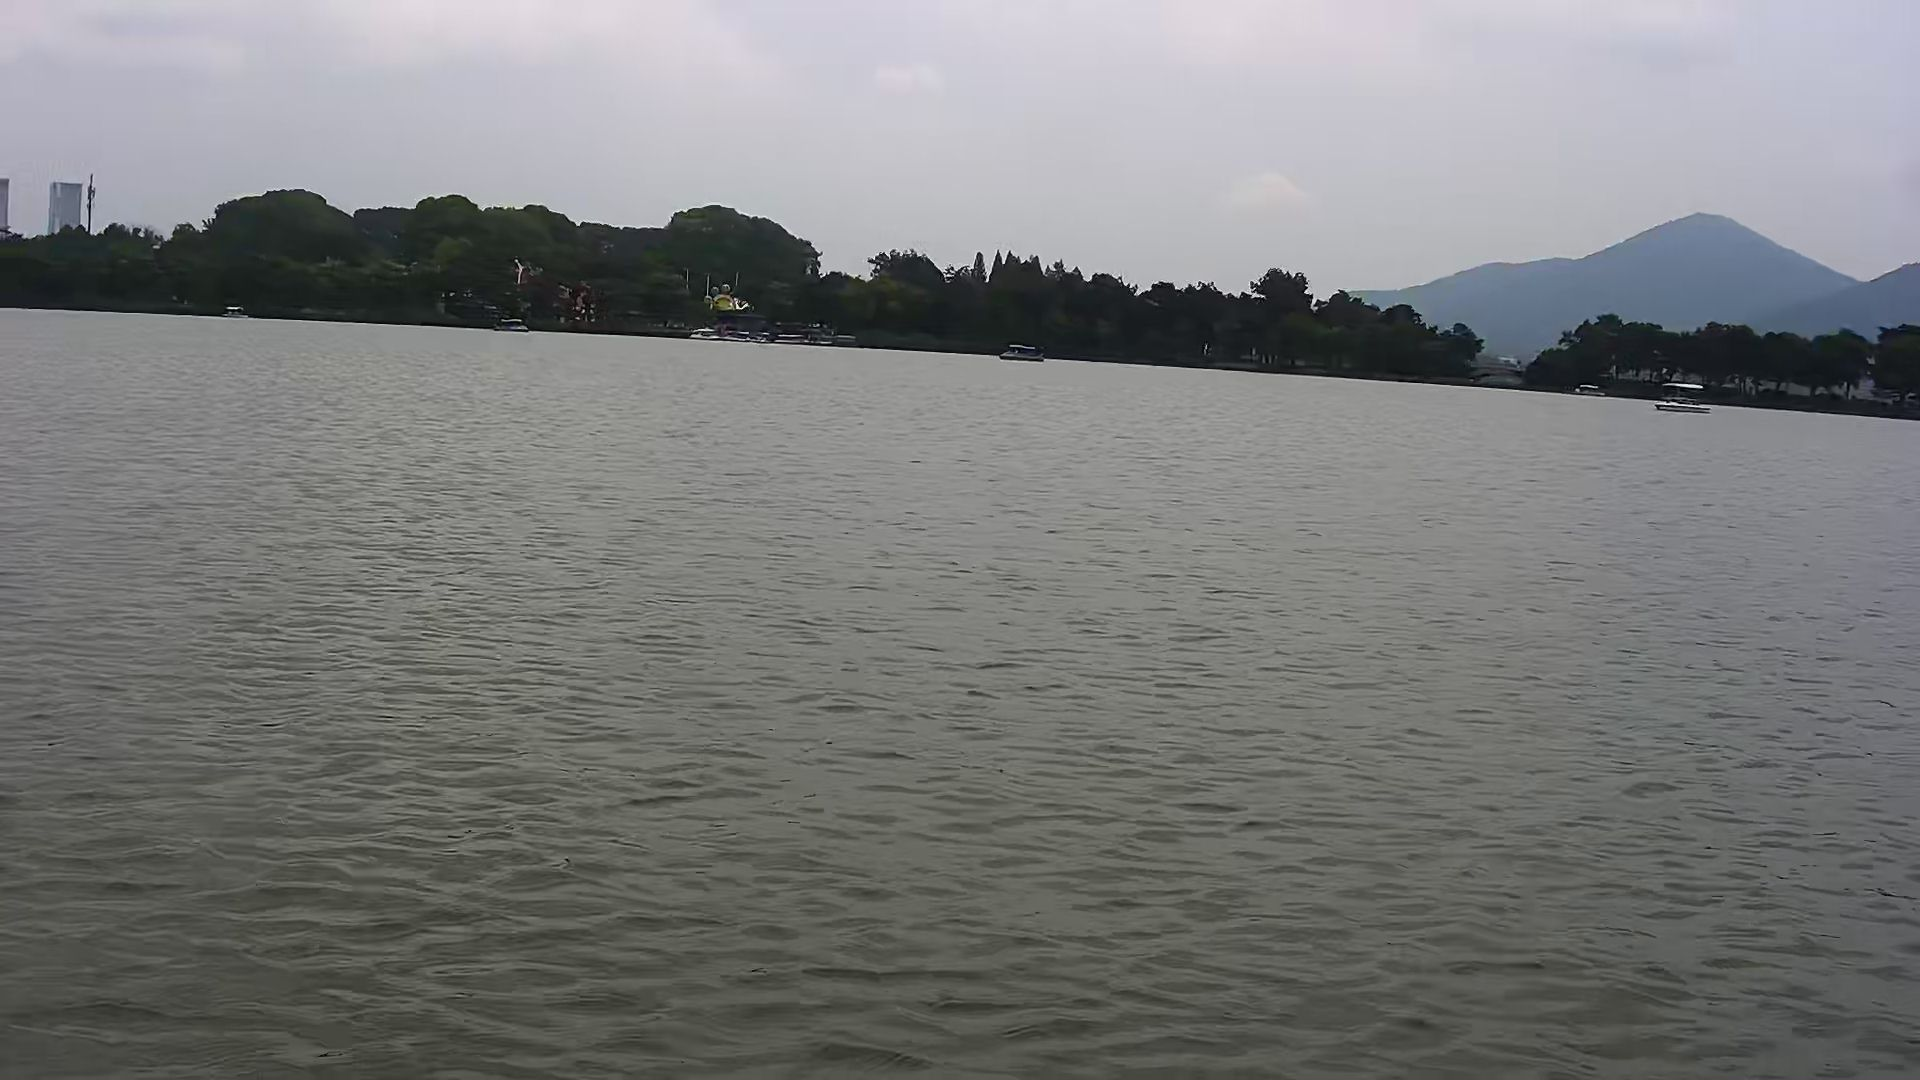boat: (1640, 375, 1712, 419), (997, 339, 1052, 363)
